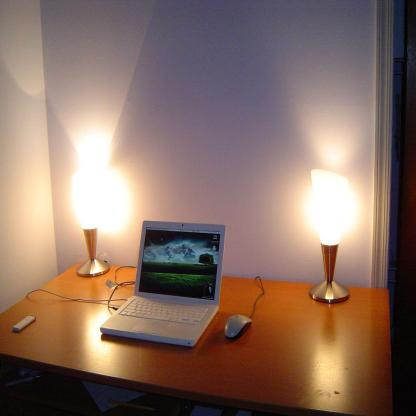board: (101, 221, 226, 353)
